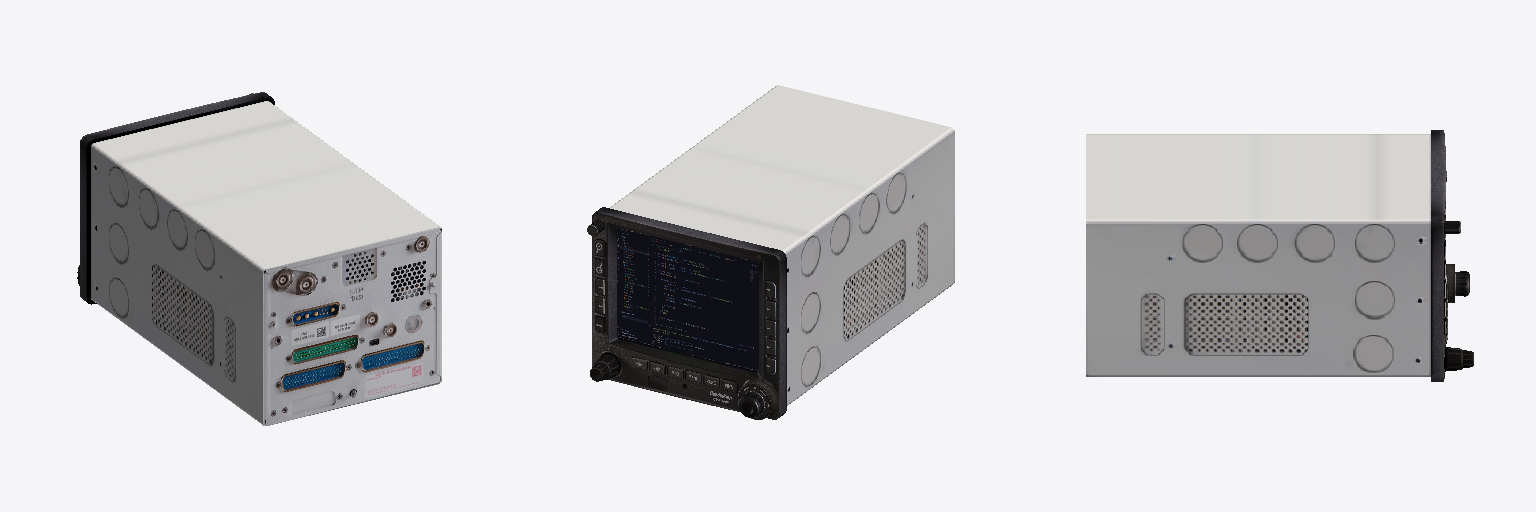
3 renders of one model, left to right at view 1: azimuth 30°, elevation 25°; view 2: azimuth 150°, elevation 25°; view 3: azimuth 270°, elevation 25°, orthographic.
Parts seen in each view (by area): view 1: Object_Box_22_0, Object__2; view 2: Object_Box_22_0, Object_main, Object__2, Object_Object010_22_0, Object_Object014_22_0; view 3: Object_Box_22_0, Object__2.
Part boxes in pixels (x1,y1,x2,y2): Object_Box_22_0: (87,97,441,425); Object__2: (77,92,270,303); Object_Box_22_0: (610,85,954,405); Object_main: (617,228,758,370); Object__2: (592,207,786,419); Object_Object010_22_0: (595,239,775,391); Object_Object014_22_0: (738,391,764,417); Object_Box_22_0: (1086,134,1430,376); Object__2: (1431,130,1454,381).
Size of the model in its own units: 1.4 by 1.17 by 2.5.
8 materials, 2 textured.